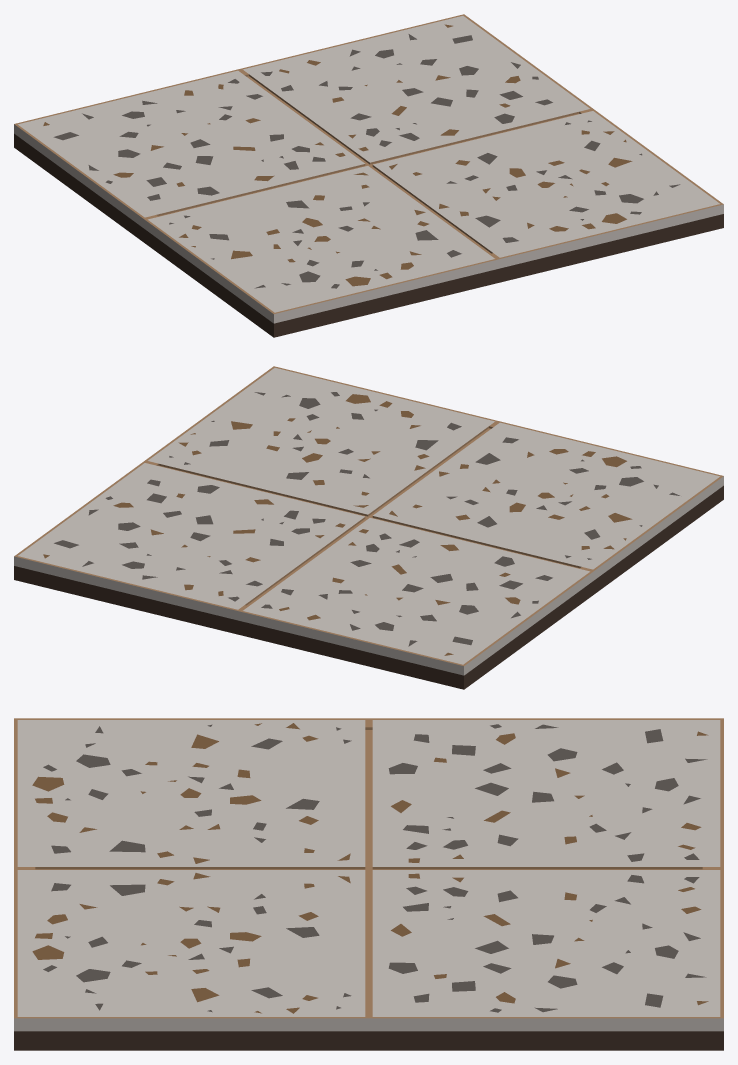
File: stage2_floor_tile.glb
3 renders of one model, top to bottom at view 1: azimuth 30°, elevation 25°; view 2: azimuth 150°, elevation 25°; view 3: azimuth 270°, elevation 25°, orthographic. The views are drawn at different scales.
Visible parts, largest first — view 1: floor-tile-mesh; view 2: floor-tile-mesh; view 3: floor-tile-mesh.
Boxes of the visible parts, x1,y1,x2,y2 form: floor-tile-mesh: (14, 14, 723, 337); floor-tile-mesh: (14, 366, 723, 689); floor-tile-mesh: (14, 718, 723, 1050).
Bounding box in the file's own units: 1 × 0.05 × 1.
